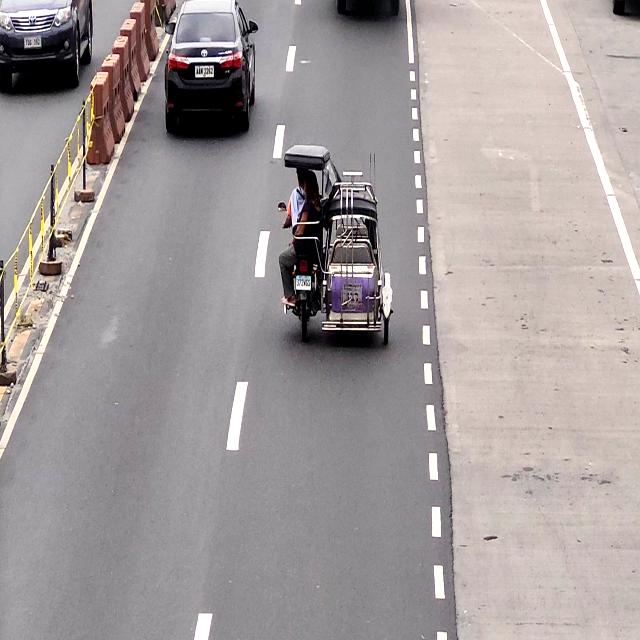Car: (162, 2, 254, 133)
License-Plate: (194, 66, 216, 81), (295, 275, 312, 292)
Tricycle: (281, 143, 397, 342)
